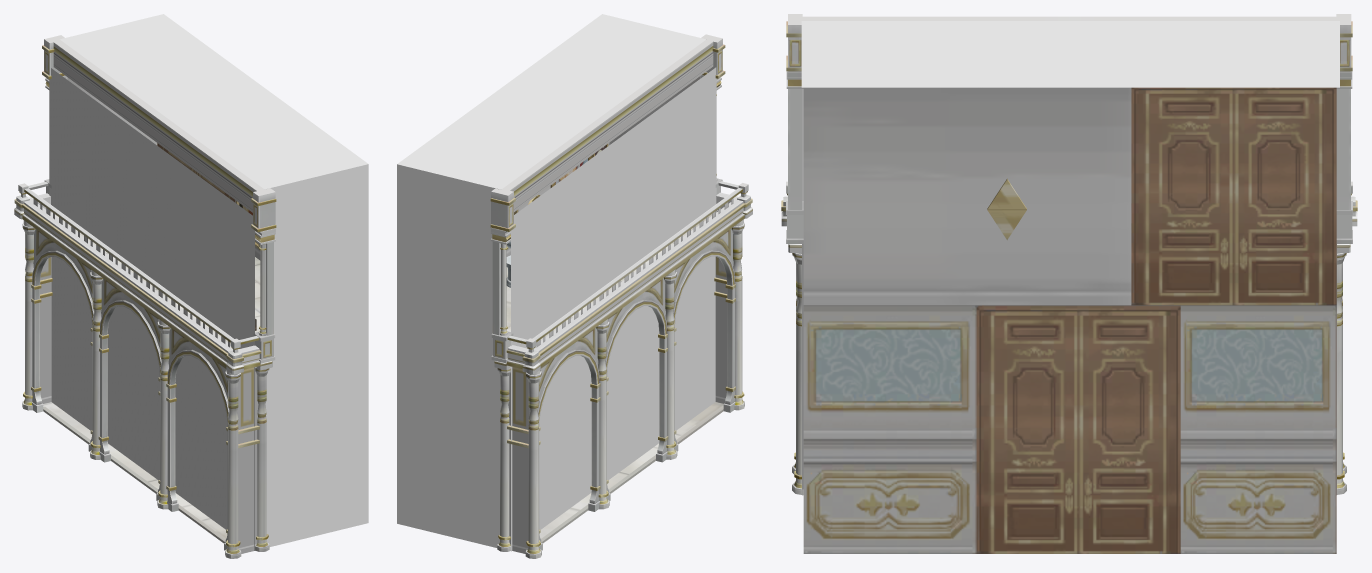
Rendered from my_teaparty_01_wallcc_01.glb.
3 renders of one model, left to right at view 1: azimuth 30°, elevation 25°; view 2: azimuth 150°, elevation 25°; view 3: azimuth 270°, elevation 25°, orthographic. The views are drawn at different scales.
Parts seen in each view (by area): view 1: my_teaparty_01_wallcc_cover, my_teaparty_01_wallcc_hole, my_teaparty_01_wallcc_01, my_teaparty_01_wallcc_out, my_teaparty_01_wallcc_sky; view 2: my_teaparty_01_wallcc_cover, my_teaparty_01_wallcc_hole, my_teaparty_01_wallcc_01, my_teaparty_01_wallcc_out; view 3: my_teaparty_01_wallcc_sky, my_teaparty_01_wallcc_cover, my_teaparty_01_wallcc_01, my_teaparty_01_wallcc_out.
Boxes of the visible parts, x1=… form: my_teaparty_01_wallcc_cover: x1=60, y1=14, x2=368, y2=546; my_teaparty_01_wallcc_hole: x1=49, y1=68, x2=254, y2=550; my_teaparty_01_wallcc_01: x1=14, y1=35, x2=276, y2=558; my_teaparty_01_wallcc_out: x1=43, y1=201, x2=260, y2=538; my_teaparty_01_wallcc_sky: x1=67, y1=77, x2=260, y2=260; my_teaparty_01_wallcc_cover: x1=397, y1=14, x2=706, y2=547; my_teaparty_01_wallcc_hole: x1=511, y1=67, x2=716, y2=551; my_teaparty_01_wallcc_01: x1=490, y1=34, x2=752, y2=558; my_teaparty_01_wallcc_out: x1=506, y1=144, x2=723, y2=538; my_teaparty_01_wallcc_sky: x1=803, y1=87, x2=1336, y2=553; my_teaparty_01_wallcc_cover: x1=801, y1=21, x2=1339, y2=87; my_teaparty_01_wallcc_01: x1=781, y1=14, x2=1357, y2=495; my_teaparty_01_wallcc_out: x1=987, y1=178, x2=1026, y2=239.
Size of the model in its own units: 0.0175 by 0.0419 by 0.0464.
Materials: 6 (4 with a texture image).
